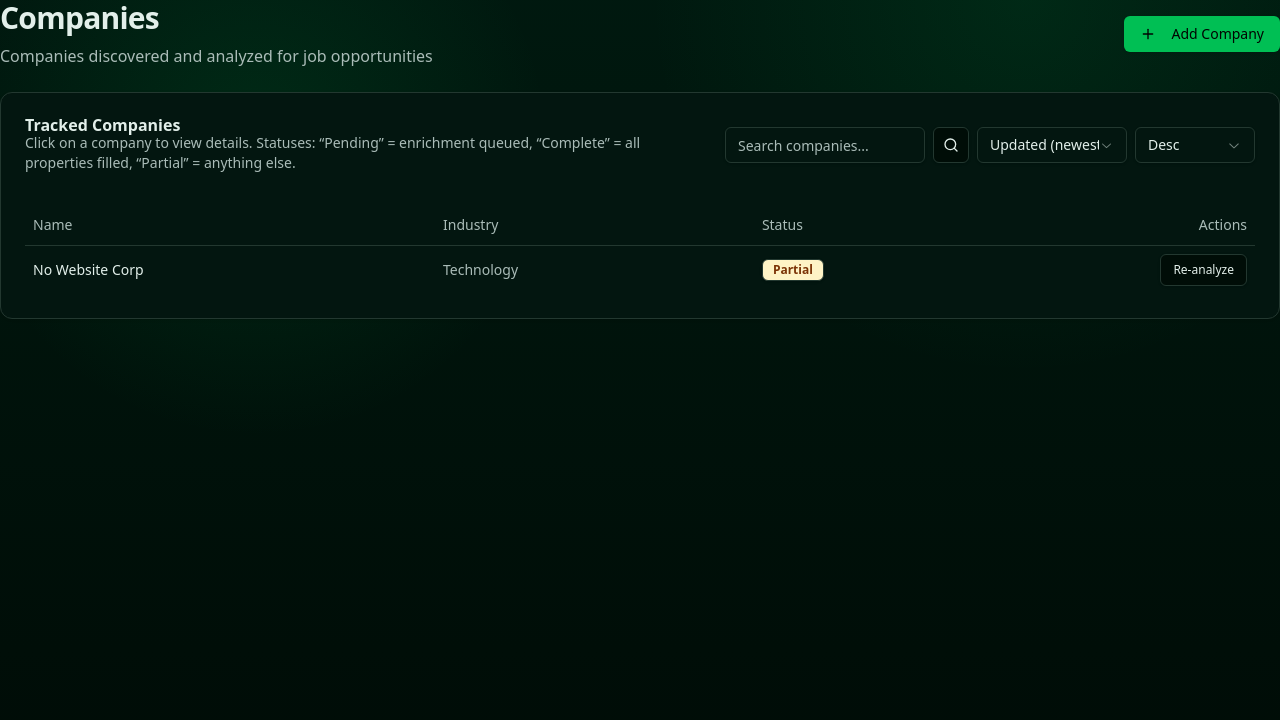
Test case: CompaniesPage › Re-analyze Feature › should enable Re-analyze button for company without website (agent will research)
Expected: the text "No Website Corp" is shown, [33,260,144,278]
Click the text "No Website Corp" at (88, 269), box [25,245,1255,294]
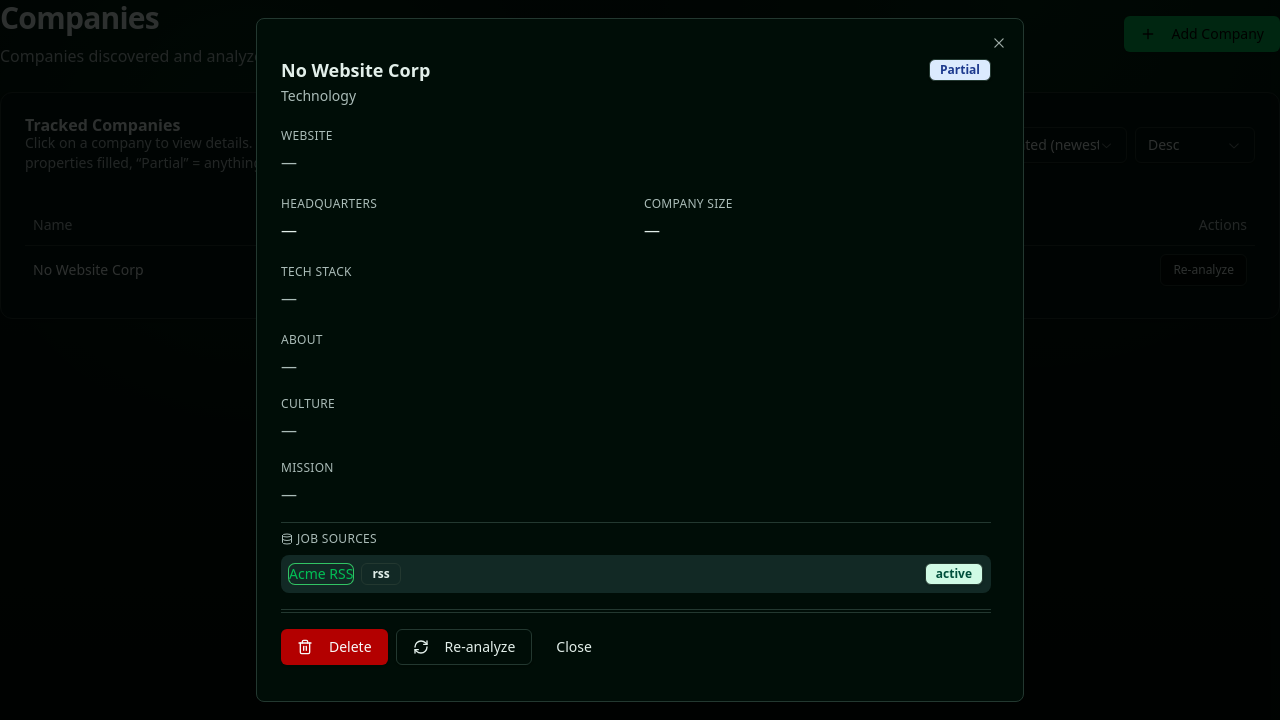
Expected: the button "Re-analyze" is enabled, [396,629,532,665]
